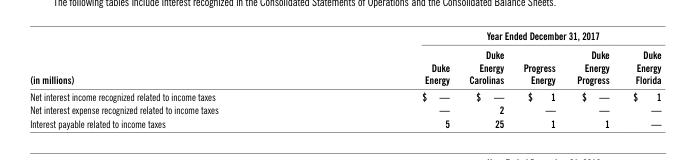table: (29, 28, 660, 128)
table column: (29, 28, 319, 128), (319, 28, 458, 128), (565, 28, 620, 128), (458, 28, 512, 128), (512, 28, 565, 128), (620, 28, 660, 128)
table column header: (29, 28, 660, 87)
table row: (29, 44, 660, 87), (29, 28, 660, 44), (29, 87, 660, 102), (29, 102, 660, 115), (29, 115, 660, 128)
table spanning cell: (29, 28, 319, 87), (319, 28, 660, 44)
